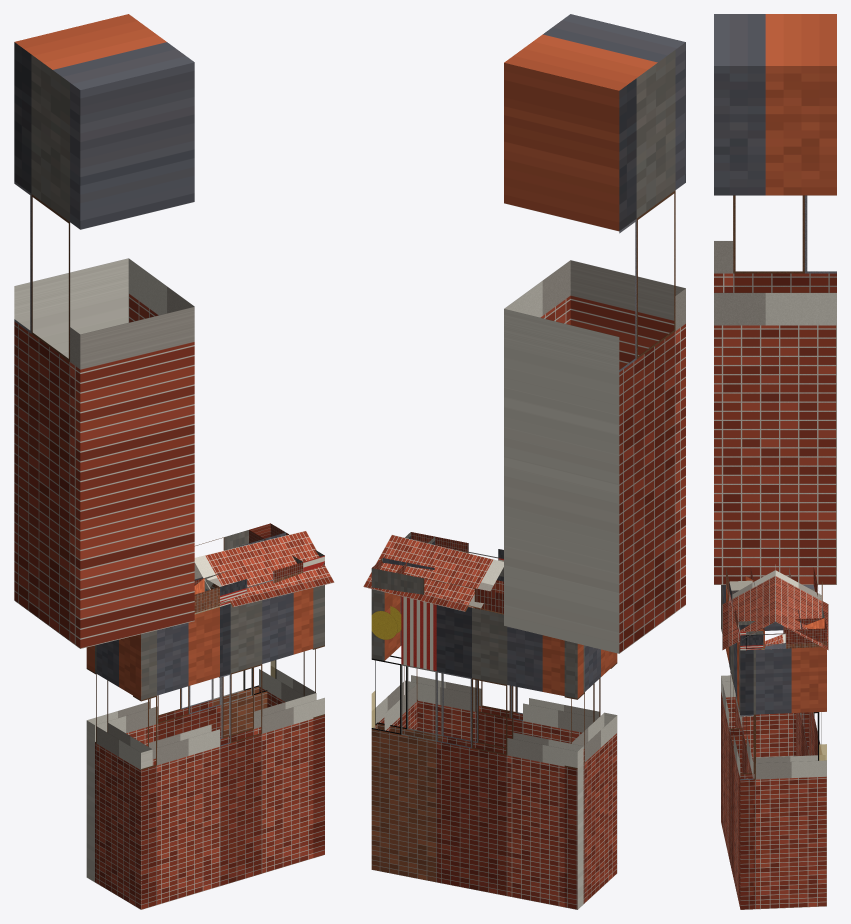
3 renders of one model, left to right at view 1: azimuth 30°, elevation 25°; view 2: azimuth 150°, elevation 25°; view 3: azimuth 270°, elevation 25°, orthographic. The views are drawn at different scales.
Parts seen in each view (by area): view 1: 238636756__chimney_0_xb, 238636756__wall_3_xb, 238636756__wall_2_xb, 238636756__wall_1_xb, 238636756__wall_0_xb, 238636756_roof_-1_xb, 238636756__wall_4_xb, 238636756__cornice_3, 238636756__cornice_2, 238636756__cornice_4; view 2: 238636756__chimney_0_xb, 238636756__wall_0_xb, 238636756__wall_1_xb, 238636756_roof_1_xb, 238636756__wall_3_xb, 238636756__wall_4_xb, 238636756__wall_2_xb, 238636756__cornice_0, 238636756__cornice_3; view 3: 238636756__chimney_0_xb, 238636756__wall_4_xb, 238636756__wall_3_xb, 238636756__wall_1_xb, 238636756_roof_-1_xb, 238636756_roof_1_xb, 238636756__wall_2_xb, 238636756__cornice_4, 238636756__wall_0_xb, 238636756__cornice_2, 238636756__cornice_3.
Boxes of the visible parts, box(x1,y1,x2,y2) form: 238636756__chimney_0_xb: box(14, 14, 194, 648); 238636756__wall_3_xb: box(219, 588, 324, 886); 238636756__wall_2_xb: box(133, 607, 219, 909); 238636756__wall_1_xb: box(86, 634, 152, 909); 238636756__wall_0_xb: box(86, 577, 276, 882); 238636756_roof_-1_xb: box(194, 531, 334, 607); 238636756__wall_4_xb: box(259, 585, 324, 858); 238636756__cornice_3: box(204, 562, 324, 606); 238636756__cornice_2: box(194, 578, 219, 614); 238636756__cornice_4: box(249, 523, 324, 572); 238636756__chimney_0_xb: box(504, 14, 685, 653); 238636756__wall_0_xb: box(371, 596, 583, 909); 238636756__wall_1_xb: box(564, 640, 617, 909); 238636756_roof_1_xb: box(363, 534, 503, 614); 238636756__wall_3_xb: box(405, 675, 522, 747); 238636756__wall_4_xb: box(371, 589, 417, 731); 238636756__wall_2_xb: box(523, 662, 617, 863); 238636756__cornice_0: box(371, 558, 503, 613); 238636756__cornice_3: box(411, 532, 503, 581); 238636756__chimney_0_xb: box(714, 14, 836, 584); 238636756__wall_4_xb: box(739, 643, 826, 909); 238636756__wall_3_xb: box(729, 642, 753, 909); 238636756__wall_1_xb: box(721, 621, 809, 761); 238636756_roof_-1_xb: box(722, 570, 775, 650); 238636756_roof_1_xb: box(775, 570, 828, 650); 238636756__wall_2_xb: box(721, 585, 742, 858); 238636756__cornice_4: box(738, 618, 826, 650); 238636756__wall_0_xb: box(796, 585, 826, 760); 238636756__cornice_2: box(726, 567, 753, 595); 238636756__cornice_3: box(729, 581, 764, 650).
Bounding box in the file's own units: 0.3392 × 1.05 × 0.15.
Materials: 1 (1 with a texture image).
